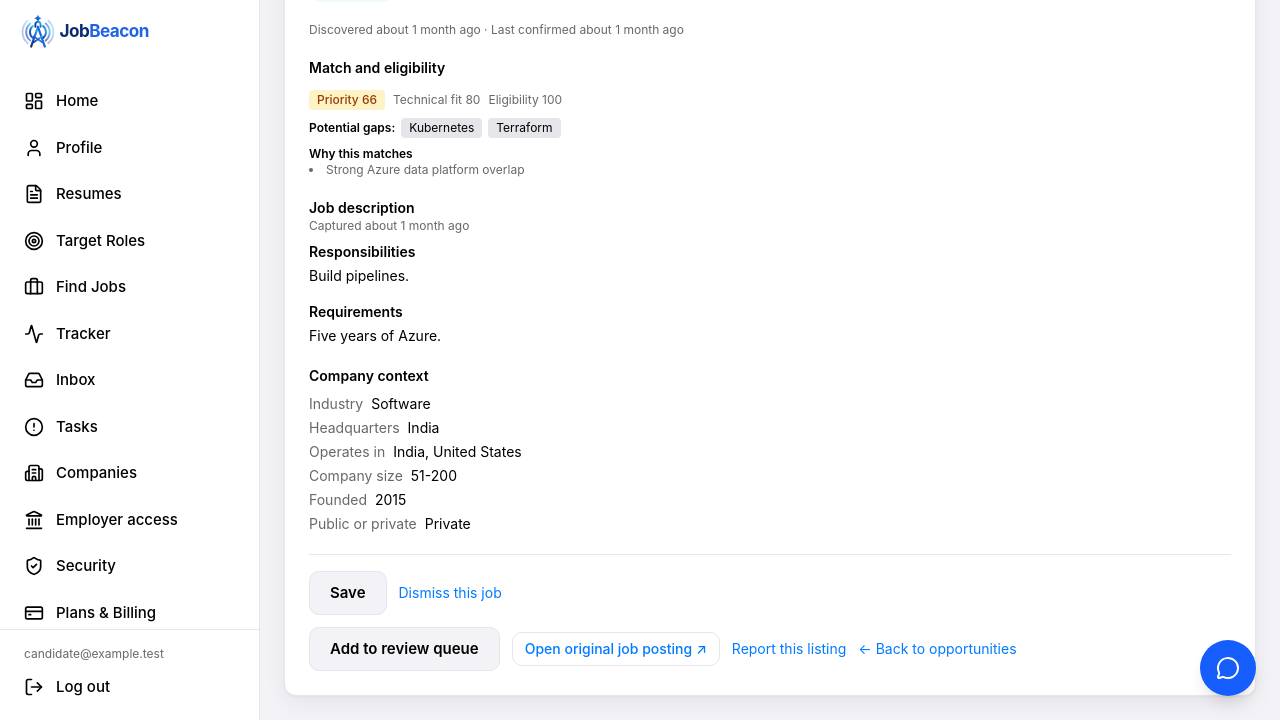
it: #/jobs/:jobId › saves the job, reports it, and can unsave it
(page scrolled)
What coordinates should you click on to do the following:
click the button "Save"
I would click on:
 (348, 593)
Its box is [309,571,386,615].
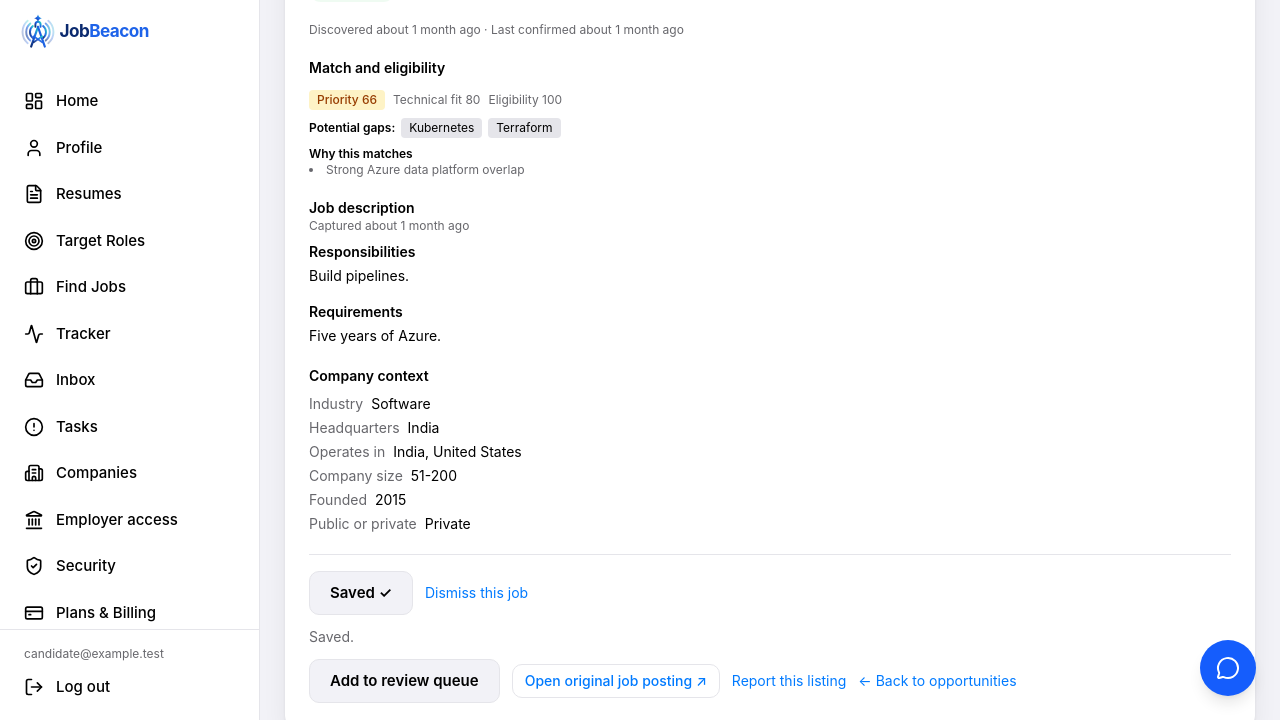
Expected: the text "Saved." is shown, [309,628,354,645]
The button now reflects the saved state and unsaving goes through delete.
What coordinates should you click on to do the following:
click the button "Saved ✓"
I would click on:
 (361, 593)
Its box is [309,571,413,615].
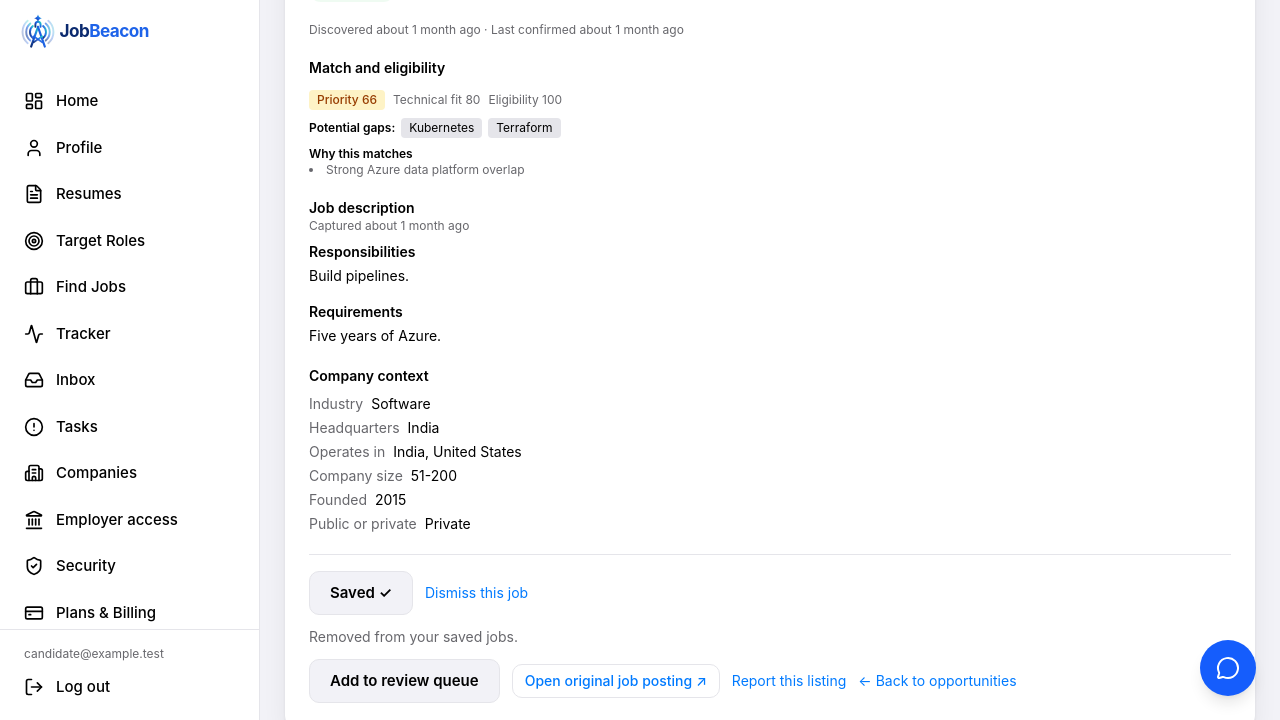
Expected: the text "Removed from your saved jobs." is shown, [309,628,518,645]
